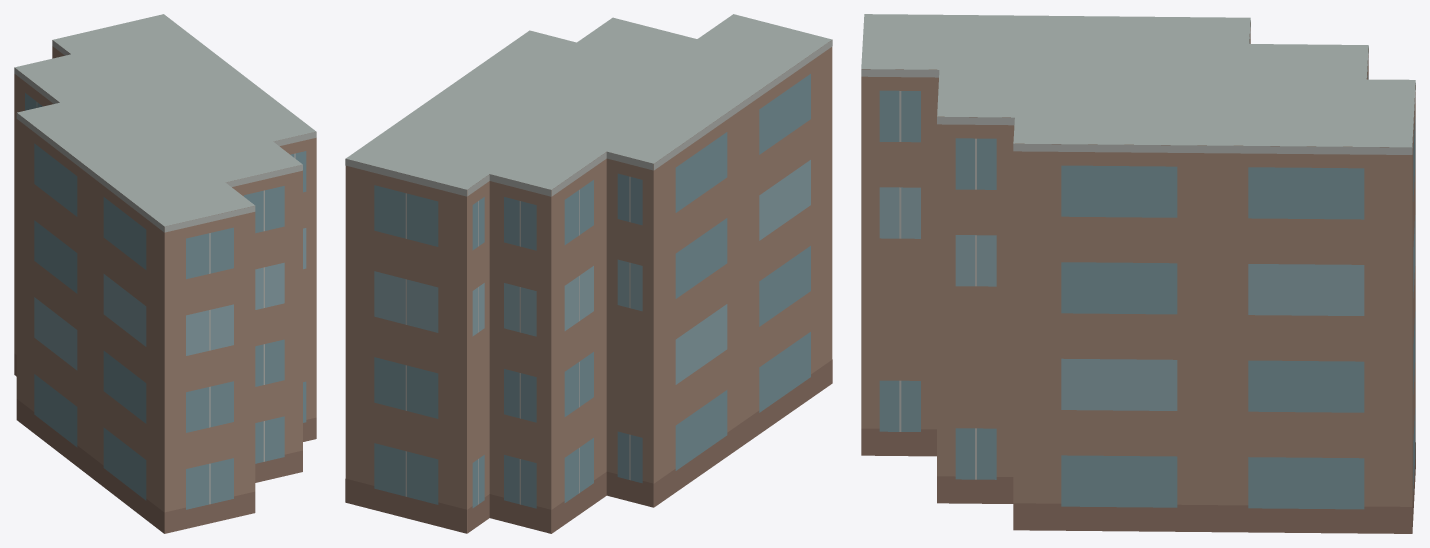
Rendered from residential-261e5eff-8c6b-4d6a-ab2b-af4774209706.glb.
3 views of the same model, side by side, from view 1: azimuth 30°, elevation 25°; view 2: azimuth 150°, elevation 25°; view 3: azimuth 270°, elevation 25° (orthographic). The views are drawn at different scales.
Visible parts, largest first — view 1: residential-261e5eff-8c6b-4d6a-ab2b-af4774209706.tmp; view 2: residential-261e5eff-8c6b-4d6a-ab2b-af4774209706.tmp; view 3: residential-261e5eff-8c6b-4d6a-ab2b-af4774209706.tmp.
Boxes of the visible parts, bbox=[...] form: residential-261e5eff-8c6b-4d6a-ab2b-af4774209706.tmp: bbox=[14, 14, 316, 533]; residential-261e5eff-8c6b-4d6a-ab2b-af4774209706.tmp: bbox=[345, 14, 832, 533]; residential-261e5eff-8c6b-4d6a-ab2b-af4774209706.tmp: bbox=[861, 14, 1415, 533].
Size of the model in its own units: 9.03 by 12.2 by 15.88.
